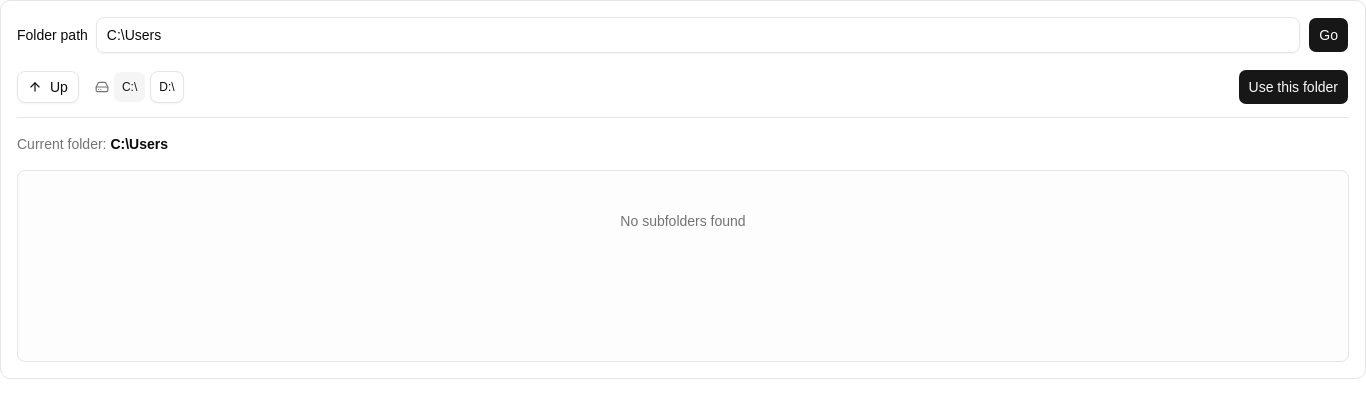
it: FolderBrowser › shows multiple drive roots on Windows and navigates when clicking one
Expected: the text "C:\\Users" is shown, x1=110 y1=136 x2=168 y2=152
Click the button "D:\\": (167, 87) x1=150 y1=71 x2=184 y2=103
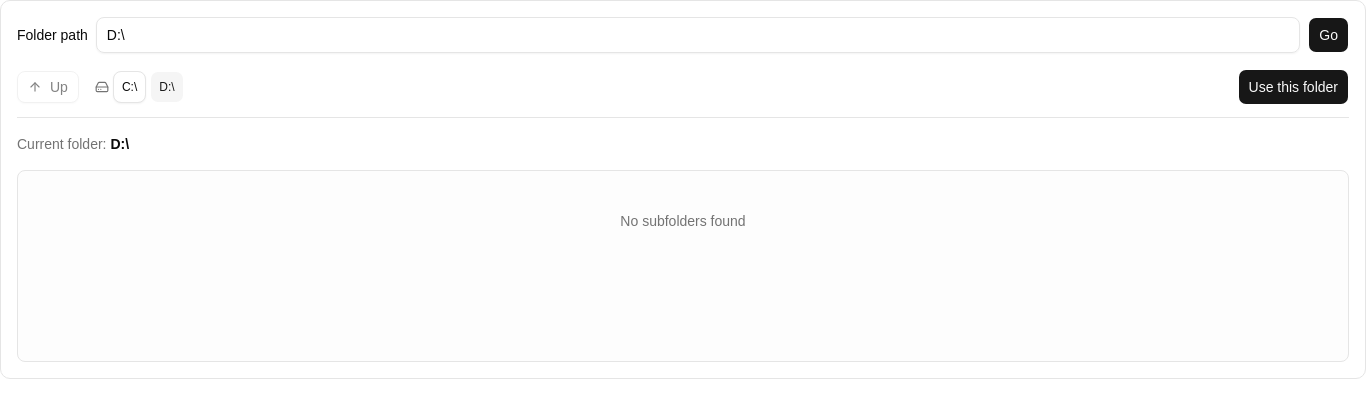
Result: the text "Current folder:" shows "D:\\" at x1=110 y1=136 x2=129 y2=152
